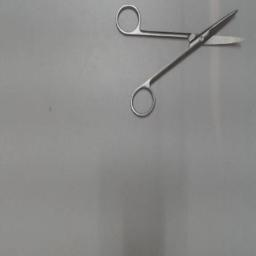Curved Mayo Scissors: (112, 2, 250, 124)
